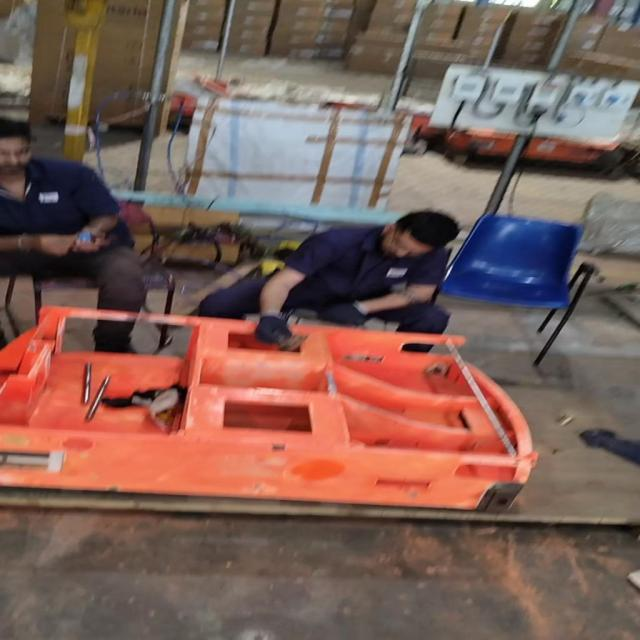Gloves-Detection: (256, 312, 298, 348), (322, 300, 364, 325)
